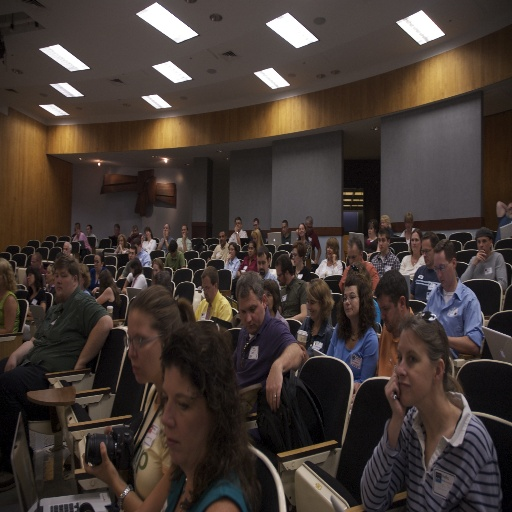hand: (258, 350, 293, 415), (81, 441, 115, 482), (383, 367, 403, 414), (3, 353, 15, 375), (299, 343, 307, 366), (475, 249, 486, 264), (101, 425, 114, 432), (330, 250, 337, 262), (89, 286, 97, 296), (226, 250, 232, 262), (139, 233, 145, 243), (121, 285, 128, 293), (73, 365, 84, 370), (180, 231, 186, 240), (351, 393, 354, 410), (163, 230, 168, 239), (352, 381, 358, 388), (115, 243, 119, 252), (312, 256, 317, 263), (119, 242, 122, 252), (161, 227, 164, 237), (236, 269, 241, 275), (206, 256, 210, 263)
